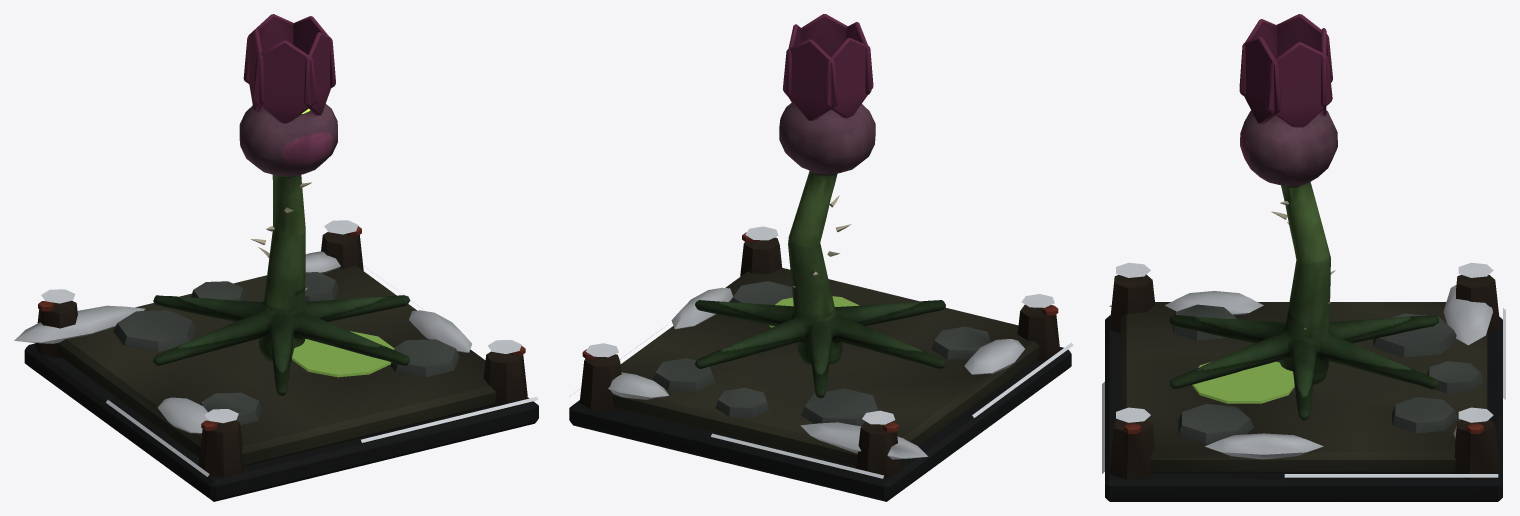
The model's file is sylvestres-3.glb.
3 renders of one model, left to right at view 1: azimuth 30°, elevation 25°; view 2: azimuth 150°, elevation 25°; view 3: azimuth 270°, elevation 25°, orthographic. The views are drawn at different scales.
Parts seen in each view (by area): view 1: lunebois_3_architecture, lunebois_3_fleur, lunebois_3_fleur_accessoires, Flaque; view 2: lunebois_3_architecture, lunebois_3_fleur, lunebois_3_fleur_accessoires; view 3: lunebois_3_architecture, lunebois_3_fleur, lunebois_3_fleur_accessoires, Flaque.
Part boxes in pixels (box(x1,y1,x2,y2)): lunebois_3_architecture: box(14, 220, 538, 501); lunebois_3_fleur: box(153, 104, 410, 395); lunebois_3_fleur_accessoires: box(243, 14, 335, 290); Flaque: box(292, 331, 394, 377); lunebois_3_architecture: box(569, 226, 1073, 501); lunebois_3_fleur: box(695, 103, 945, 398); lunebois_3_fleur_accessoires: box(783, 14, 873, 287); lunebois_3_architecture: box(1102, 262, 1505, 501); lunebois_3_fleur: box(1169, 110, 1438, 420); lunebois_3_fleur_accessoires: box(1239, 14, 1335, 329); Flaque: box(1192, 361, 1294, 403).
Size of the model in its own units: 0.8655 by 0.8676 by 0.811.
4 materials, 1 textured.
